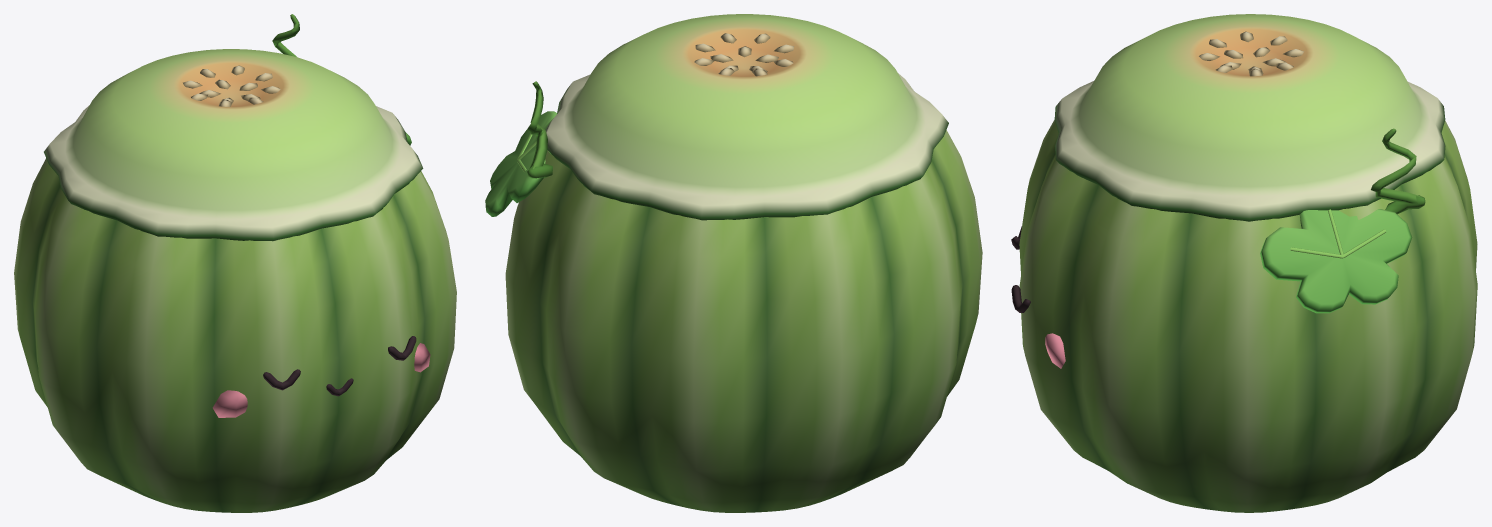
The model's file is furn-melonStool.glb.
The picture shows the model from 3 angles, left to right: view 1: azimuth 30°, elevation 25°; view 2: azimuth 150°, elevation 25°; view 3: azimuth 270°, elevation 25°; orthographic projection. The views are drawn at different scales.
Visible parts, largest first — view 1: body; view 2: body, leaf; view 3: body, leaf.
Boxes of the visible parts, left/top/right/bottom form: body: left=14, top=14, right=456, bottom=512; body: left=505, top=14, right=982, bottom=512; leaf: left=485, top=111, right=556, bottom=216; body: left=1011, top=14, right=1477, bottom=512; leaf: left=1260, top=209, right=1412, bottom=313.
Size of the model in its own units: 0.4362 by 0.411 by 0.4198.
